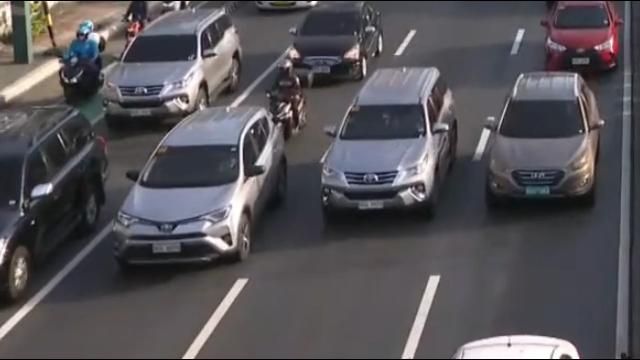car: (109, 108, 288, 272), (321, 65, 457, 222), (0, 107, 104, 296), (485, 69, 602, 203), (108, 7, 240, 117), (288, 3, 391, 76), (537, 0, 622, 71)
motorcycle: (57, 18, 103, 111), (269, 45, 306, 139), (119, 0, 148, 50)
